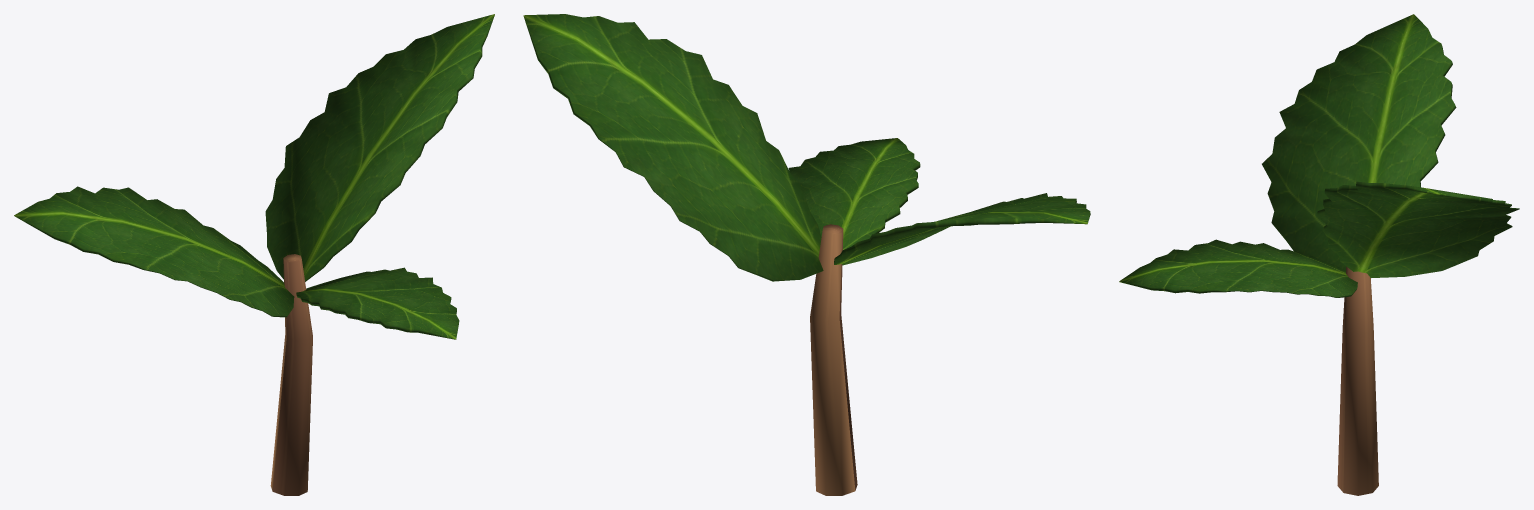
The model's file is NP_Blackberry_Sprout.fbx.
3 renders of one model, left to right at view 1: azimuth 30°, elevation 25°; view 2: azimuth 150°, elevation 25°; view 3: azimuth 270°, elevation 25°, orthographic. The views are drawn at different scales.
Visible parts, largest first — view 1: NP_Blackberry_Sprout; view 2: NP_Blackberry_Sprout; view 3: NP_Blackberry_Sprout.
Boxes of the visible parts, x1,y1,x2,y2 form: NP_Blackberry_Sprout: [14, 14, 494, 495]; NP_Blackberry_Sprout: [523, 14, 1090, 495]; NP_Blackberry_Sprout: [1119, 14, 1519, 495].
Size of the model in its own units: 29.57 by 22.42 by 19.33.
